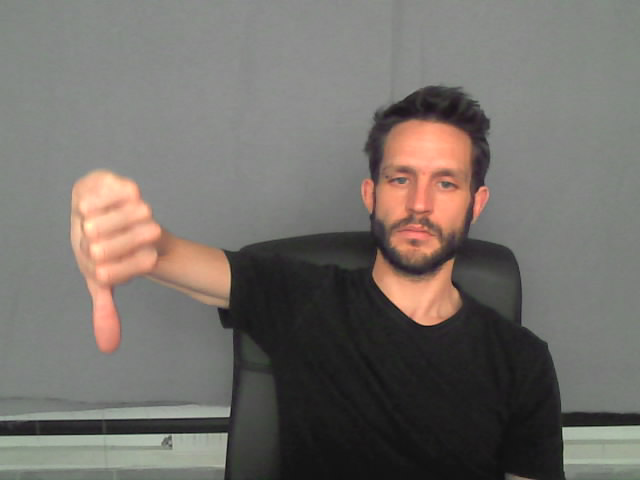thumbsdown: (72, 169, 162, 354)
